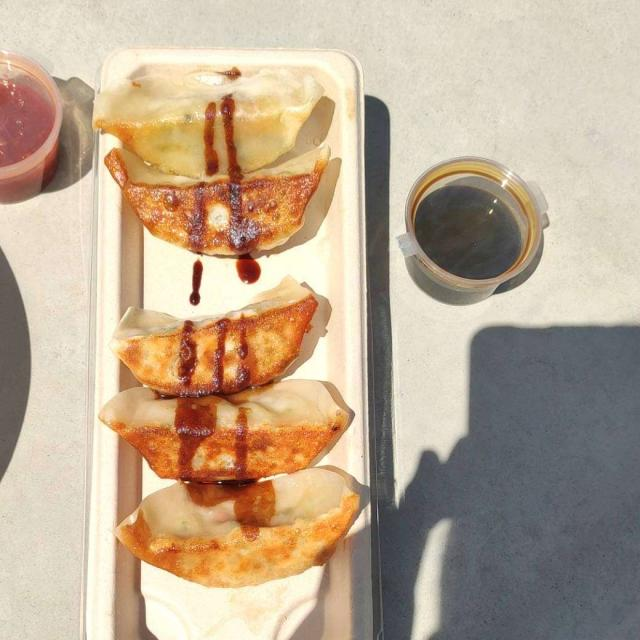sauce-soya: (412, 192, 521, 301)
